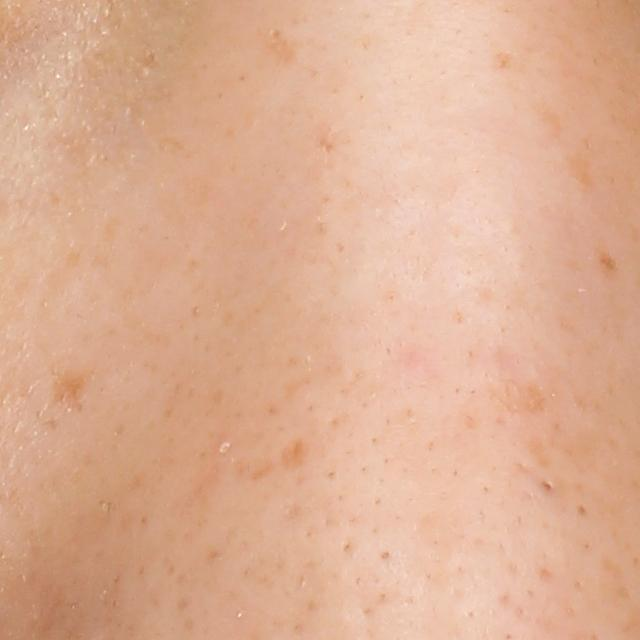comedo: (536, 476, 562, 498)
melasma: (47, 366, 98, 411), (530, 99, 570, 153), (255, 26, 301, 65), (597, 242, 622, 275)
